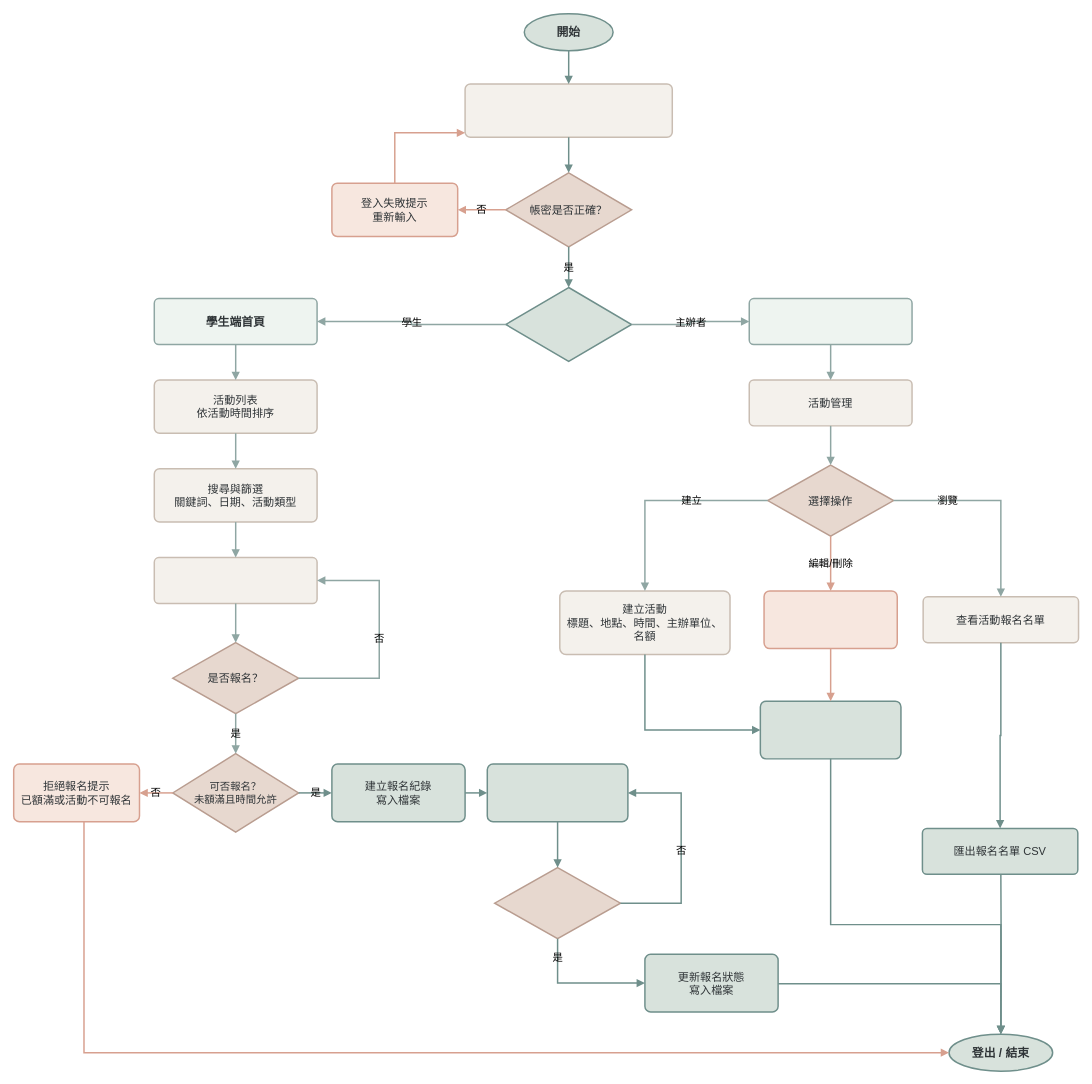
The diagram is 1092 pixels wide and 1084 high, and some of its shapes have lost their labels. Here are the shapes that lost their labels. From the top down, the centre of each, then its label:
point (568, 110): 登入畫面 輸入學號或員工編號與密碼
point (568, 324): 使用者角色？
point (830, 321): 主辦者端首頁
point (235, 580): 活動詳細資料
point (830, 619): 編輯 / 刪除活動 活動異動提示
point (830, 729): 儲存活動資訊 寫入檔案
point (557, 792): 報名成功提示 查看個人報名紀錄
point (557, 903): 需要取消報名？
